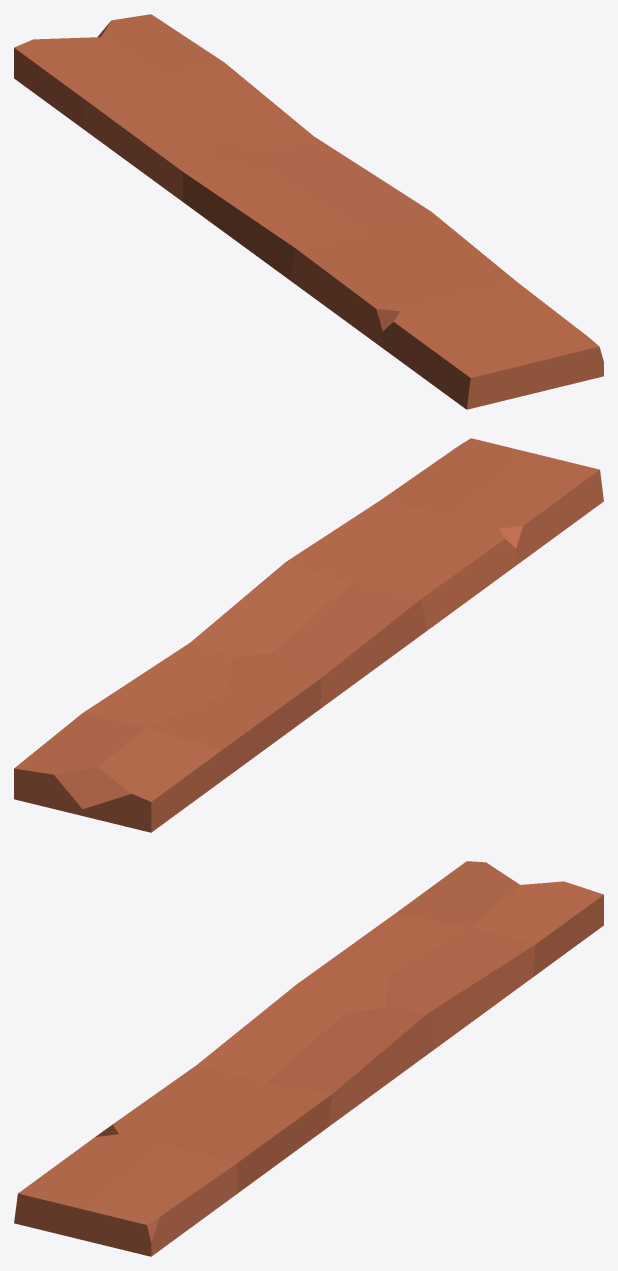
Rendered from WoodenPlank2.fbx.
3 views of the same model, one above another, from view 1: azimuth 30°, elevation 25°; view 2: azimuth 150°, elevation 25°; view 3: azimuth 330°, elevation 25° (orthographic).
Visible parts, largest first — view 1: Plank2; view 2: Plank2; view 3: Plank2.
Part boxes in pixels (left/top/right/bottom): Plank2: left=14, top=14, right=603, bottom=409; Plank2: left=14, top=438, right=603, bottom=832; Plank2: left=14, top=861, right=603, bottom=1256.
Size of the model in its own units: 145 by 35.36 by 800.
